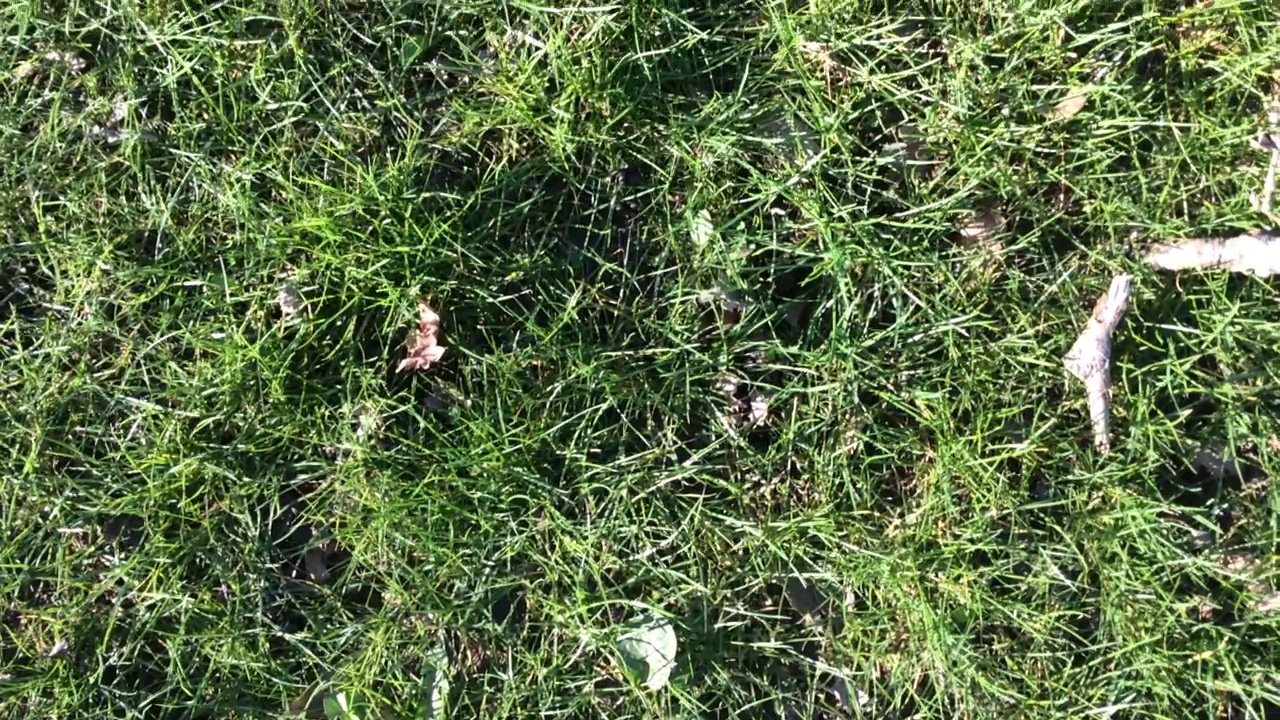rumex: (626, 615, 679, 695)
